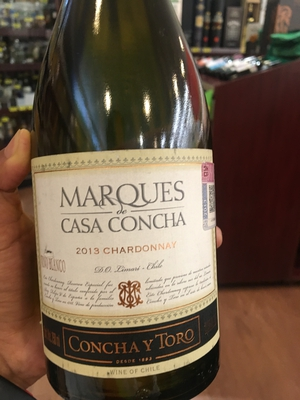marques de casa concha chardonnay: (31, 22, 236, 400)
